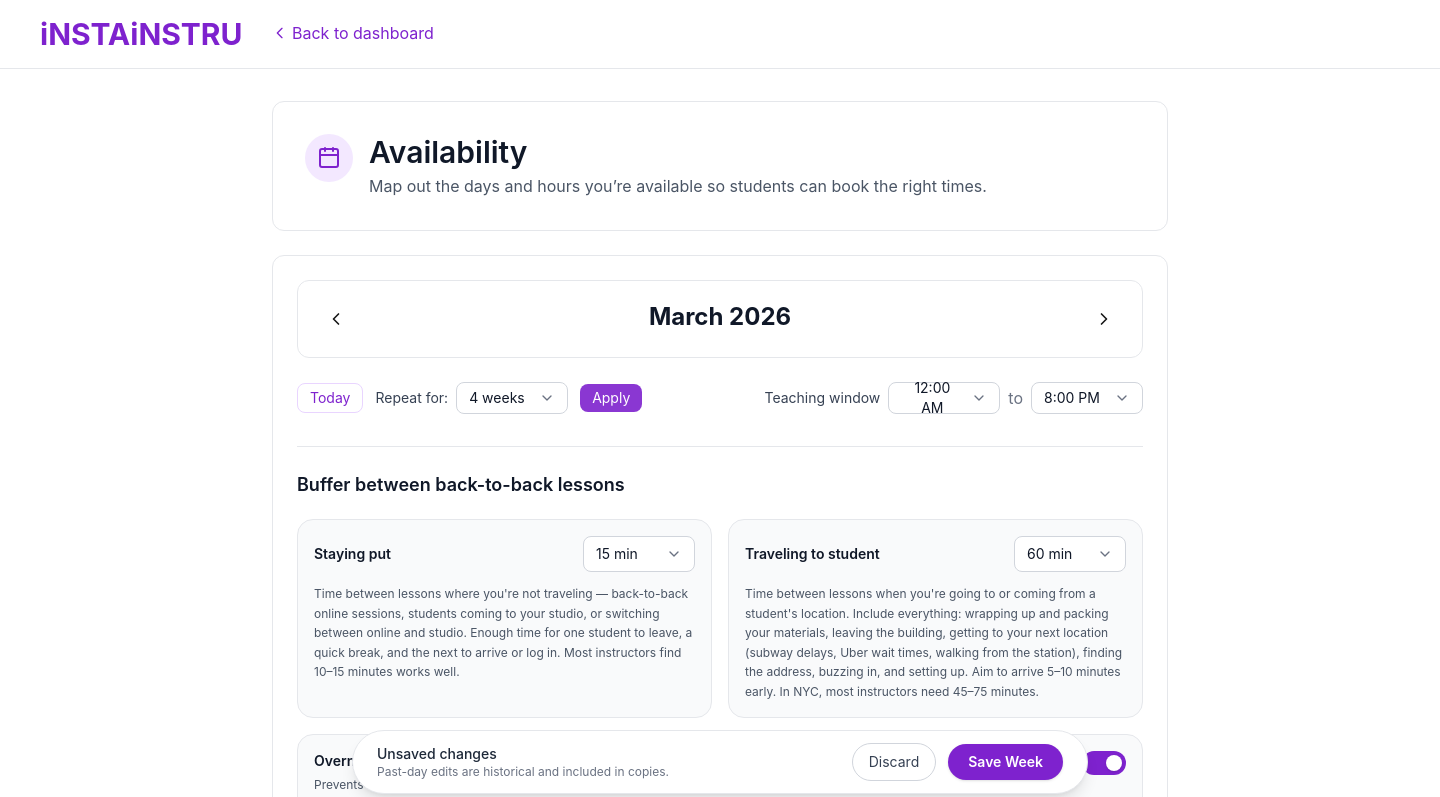
Test case: InstructorAvailabilityPage › renders the repeat control label and singular/plural week options
Expected: the text "Repeat for:" is shown, [375,388,448,408]
Click the dropdown named "Repeat for".
click(512, 398)  # box [456,382,568,414]
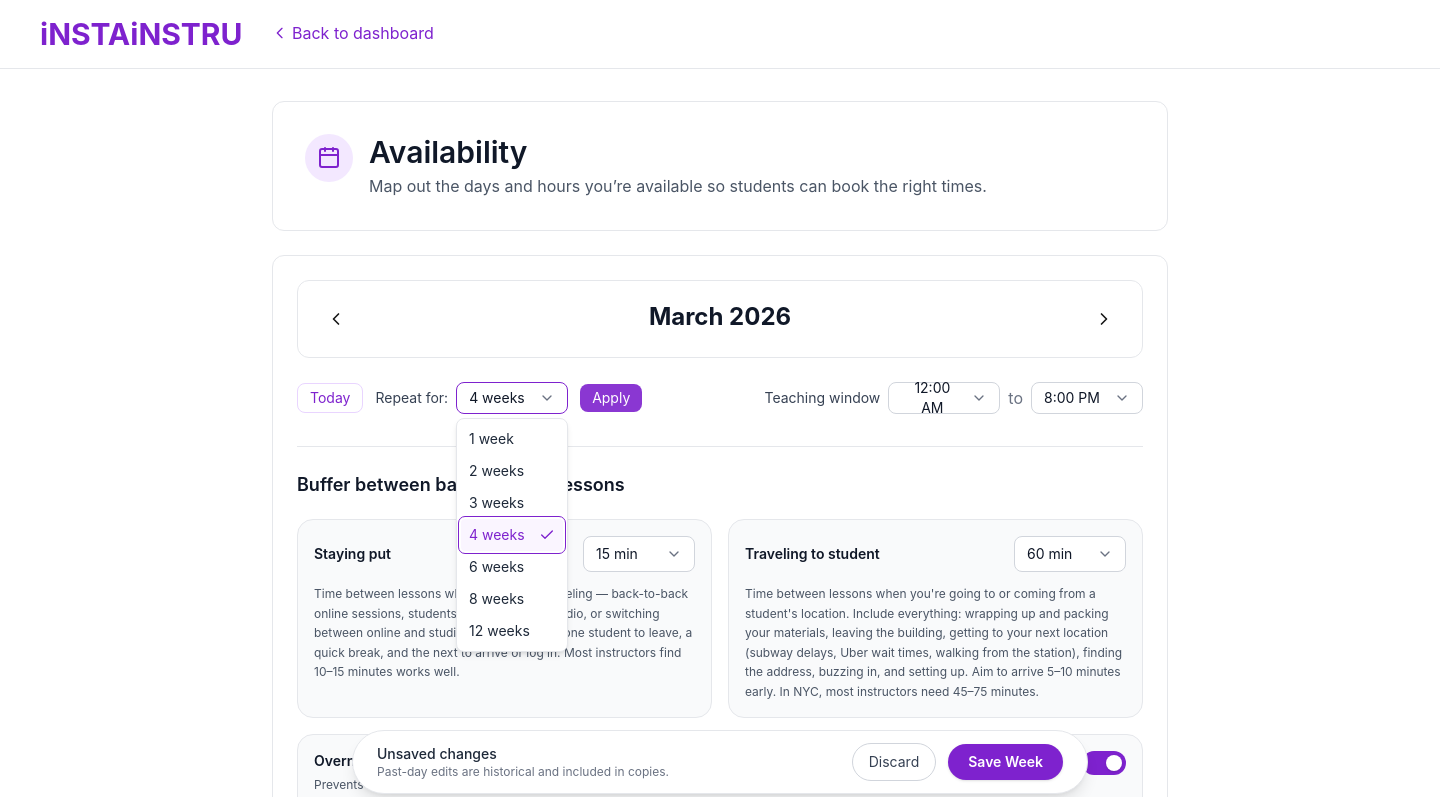
Result: the option "1 week" is shown at [469,430,514,447]
Result: the option "2 weeks" is shown at [469,462,524,479]
